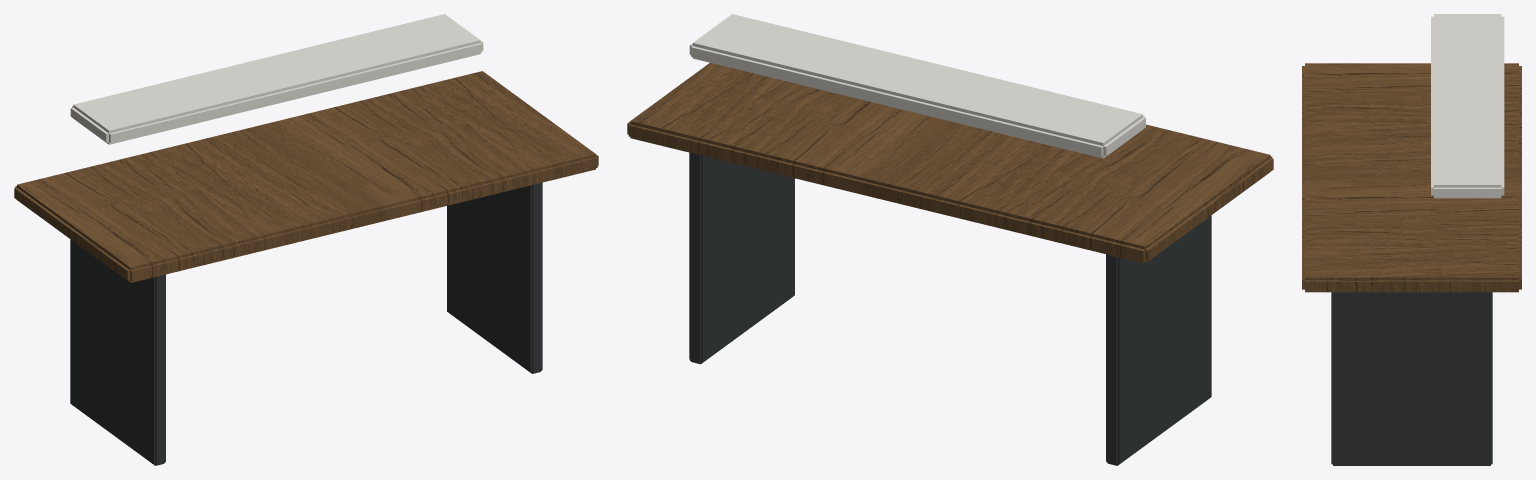
The model's file is fixture_shoe_table.glb.
The picture shows the model from 3 angles, left to right: view 1: azimuth 30°, elevation 25°; view 2: azimuth 150°, elevation 25°; view 3: azimuth 270°, elevation 25°; orthographic projection. The views are drawn at different scales.
Visible parts, largest first — view 1: fixture_shoe_table_CC0_Oak_veneer, fixture_shoe_table_Anodised_graphite, fixture_shoe_table_Warm_white_coating; view 2: fixture_shoe_table_CC0_Oak_veneer, fixture_shoe_table_Anodised_graphite, fixture_shoe_table_Warm_white_coating; view 3: fixture_shoe_table_CC0_Oak_veneer, fixture_shoe_table_Anodised_graphite, fixture_shoe_table_Warm_white_coating.
Boxes of the visible parts, left/top/right/bottom form: fixture_shoe_table_CC0_Oak_veneer: left=14, top=71, right=598, bottom=282; fixture_shoe_table_Anodised_graphite: left=70, top=182, right=542, bottom=465; fixture_shoe_table_Warm_white_coating: left=70, top=14, right=483, bottom=144; fixture_shoe_table_CC0_Oak_veneer: left=627, top=62, right=1273, bottom=263; fixture_shoe_table_Anodised_graphite: left=689, top=152, right=1211, bottom=465; fixture_shoe_table_Warm_white_coating: left=689, top=14, right=1145, bottom=158; fixture_shoe_table_CC0_Oak_veneer: left=1302, top=63, right=1521, bottom=292; fixture_shoe_table_Anodised_graphite: left=1331, top=292, right=1492, bottom=465; fixture_shoe_table_Warm_white_coating: left=1431, top=14, right=1504, bottom=198.
Bounding box in the file's own units: 1.75 × 1.04 × 0.75.
3 materials, 1 textured.
